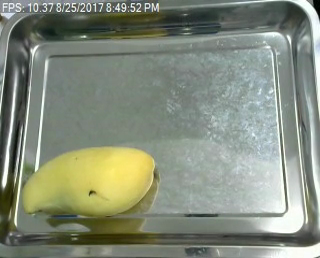Mango: (17, 141, 164, 222)
